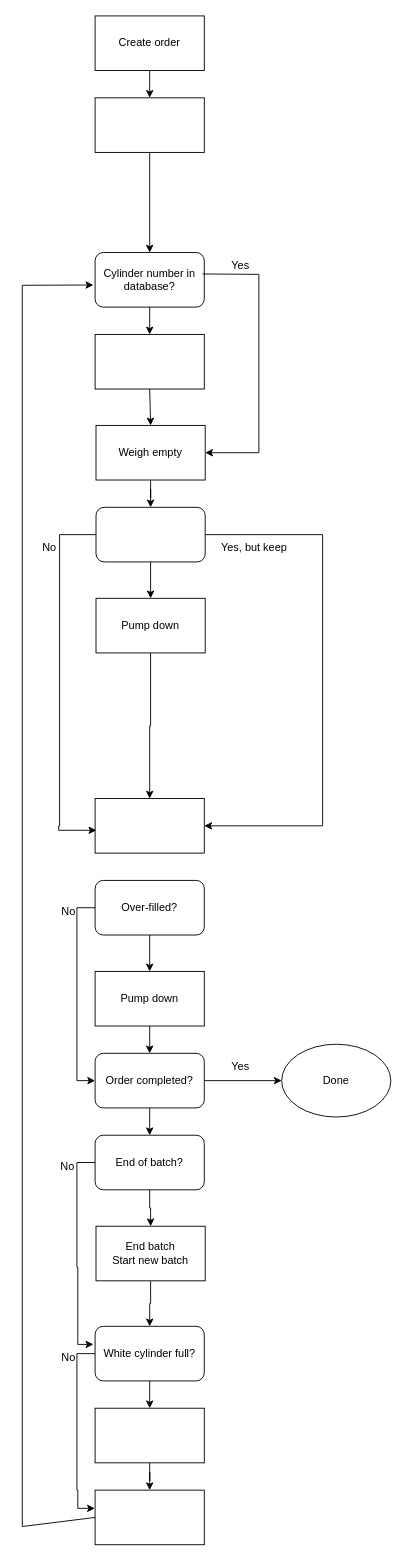
Some shapes in this 407 by 1561 pixel diagram are drawn without their labels. Here are the shapes that lost their labels. From the top down, the box of each, then its label:
(94, 97, 204, 152): Start batch
(94, 334, 204, 389): Record cylinder in DB
(95, 506, 205, 562): Heel?
(94, 798, 204, 853): Fill ( multiple steps)
(94, 1407, 204, 1463): End white cylinder Start new white cylinder
(94, 1489, 204, 1545): End of cylinder
